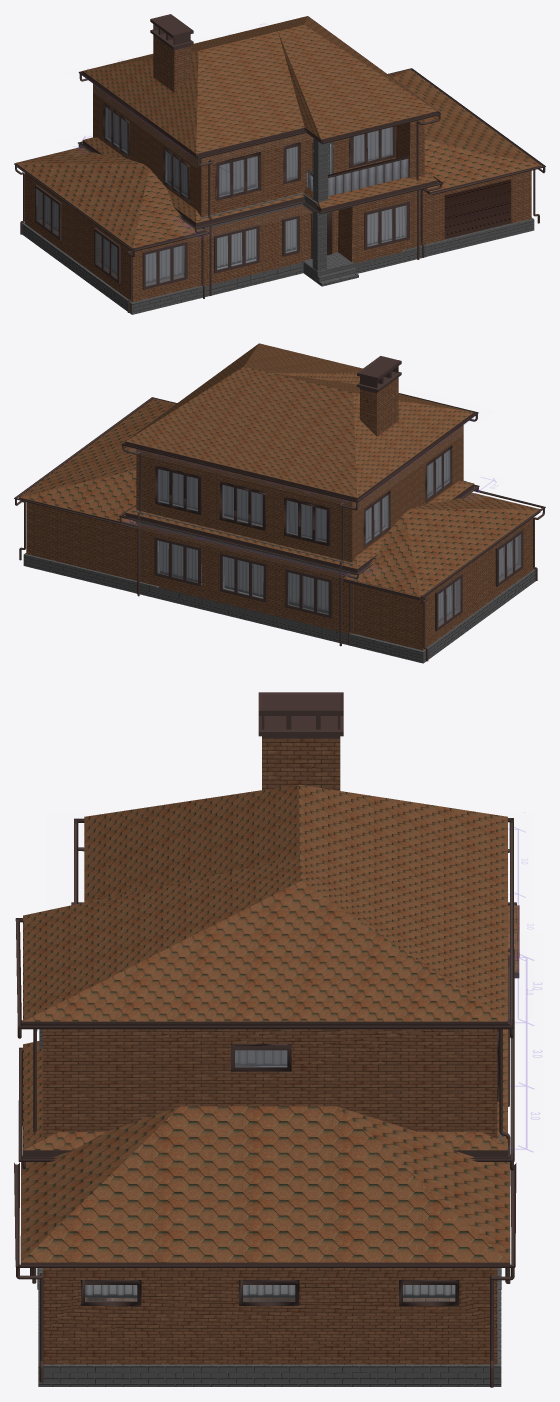
File: home.gltf
3 views of the same model, one above another, from view 1: azimuth 30°, elevation 25°; view 2: azimuth 150°, elevation 25°; view 3: azimuth 270°, elevation 25° (orthographic). The views are drawn at different scales.
Visible parts, largest first — view 1: Roof, Hall, L-2, L-1, Garage, Roof1, V-2, V-1, V-h, V-g; view 2: Roof, Hall, L-2, L-1, Garage, Roof1, V-2, V-1, V-h, V-g; view 3: Garage, Roof, L-2, V-2, Roof1, V-g, V-1.
Boxes of the visible parts, x1=… form: Roof: x1=82, y1=14, x2=437, y2=156; Hall: x1=16, y1=147, x2=206, y2=314; L-2: x1=90, y1=83, x2=424, y2=229; L-1: x1=199, y1=190, x2=427, y2=298; Garage: x1=388, y1=69, x2=541, y2=256; Roof1: x1=82, y1=137, x2=437, y2=226; V-2: x1=78, y1=16, x2=441, y2=295; V-1: x1=78, y1=141, x2=443, y2=298; V-h: x1=14, y1=147, x2=209, y2=312; V-g: x1=388, y1=68, x2=545, y2=223; Roof: x1=125, y1=343, x2=474, y2=499; Hall: x1=343, y1=492, x2=540, y2=663; L-2: x1=133, y1=425, x2=466, y2=574; L-1: x1=133, y1=524, x2=353, y2=644; Garage: x1=18, y1=398, x2=175, y2=592; Roof1: x1=125, y1=481, x2=474, y2=572; V-2: x1=121, y1=344, x2=478, y2=646; V-1: x1=119, y1=484, x2=479, y2=644; V-h: x1=344, y1=490, x2=545, y2=661; V-g: x1=14, y1=397, x2=176, y2=560; Garage: x1=20, y1=1106, x2=510, y2=1386; Roof: x1=23, y1=692, x2=507, y2=1024; L-2: x1=37, y1=1029, x2=501, y2=1142; V-2: x1=15, y1=818, x2=513, y2=1283; Roof1: x1=23, y1=1029, x2=507, y2=1157; V-g: x1=14, y1=1162, x2=516, y2=1387; V-1: x1=18, y1=948, x2=514, y2=1283.
Bounding box in the file's own units: 4.37 × 2.36 × 2.71.
Materials: 37 (21 with a texture image).
